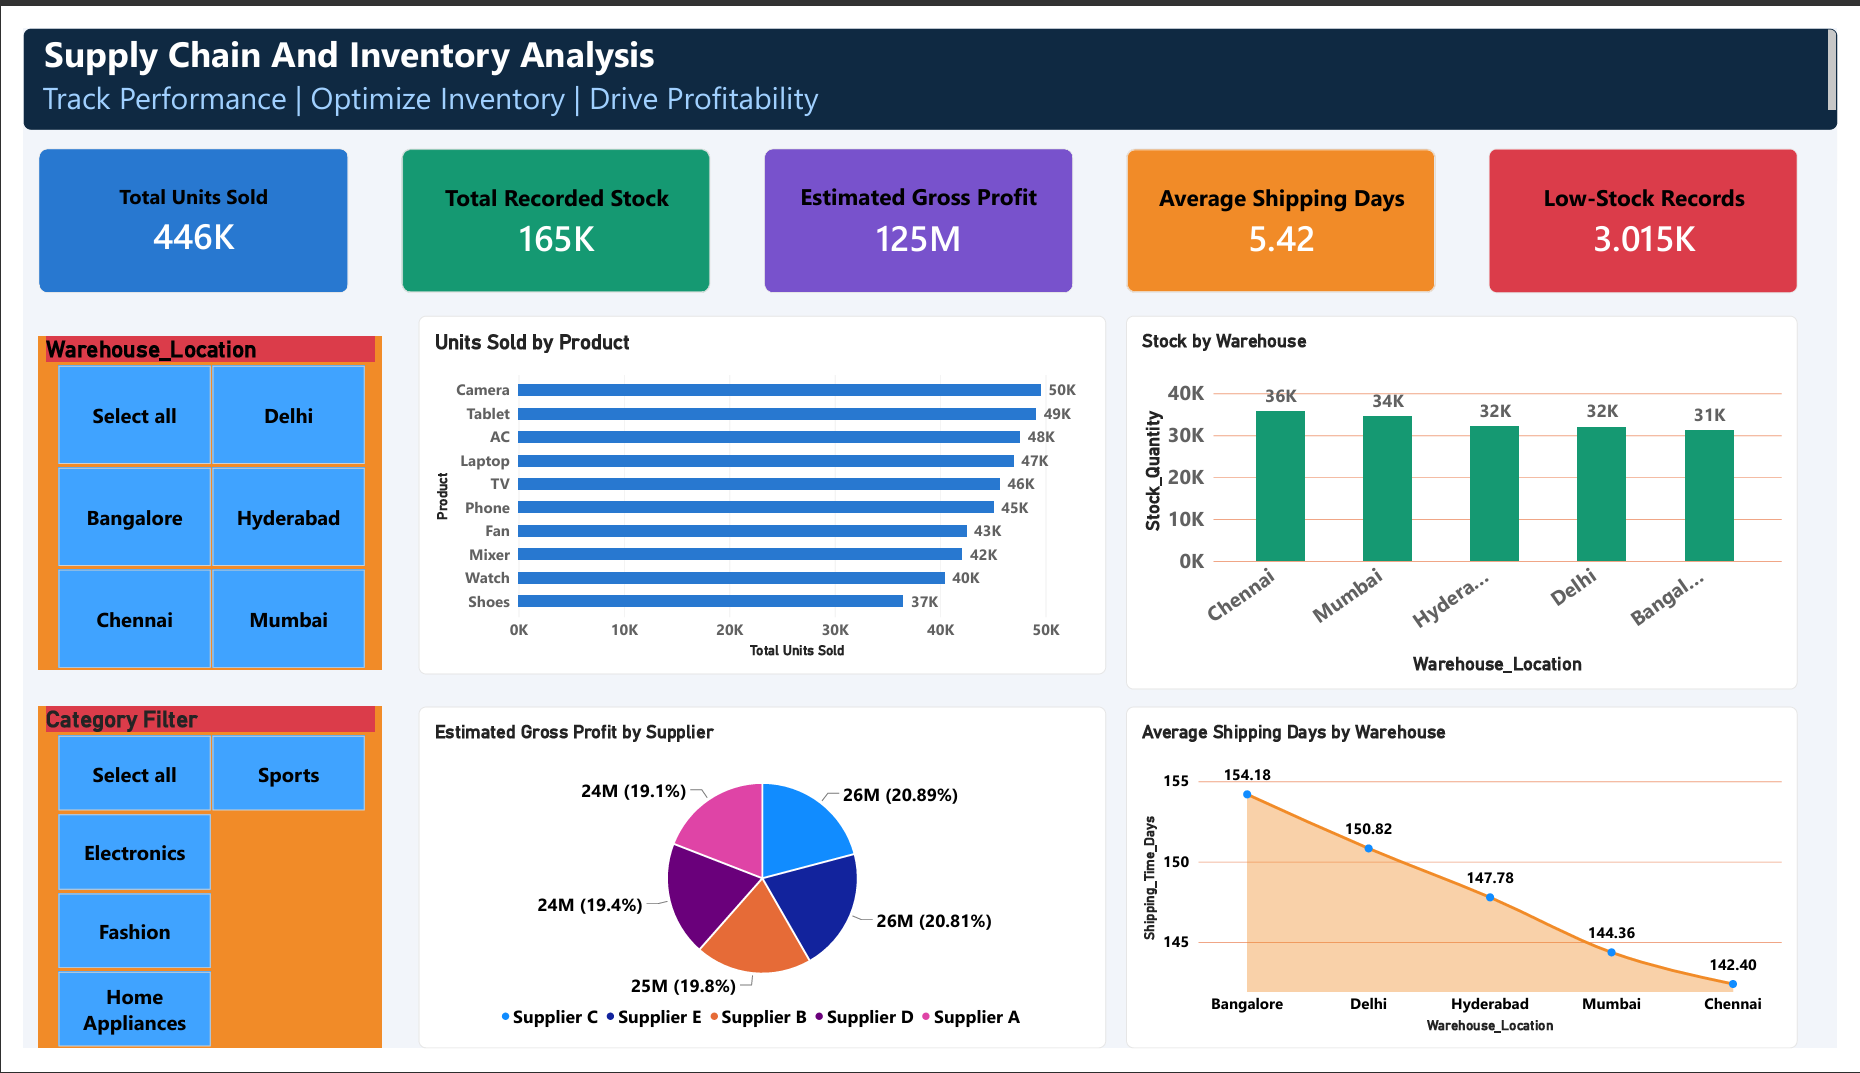

The page's visual inventory and layout, read from the dashboard file:
{"tool":"powerbi","page":{"name":"Supply Chain Dashboard","canvas":[1920,1080],"ordinal":0},"visuals":[{"type":"textbox","box":[-0.2,0,1920.4,107],"z":0},{"type":"cardVisual","title":"Total Units Sold","fields":{"Data":["Sum(Supply_Chain_PowerBI.Units_Sold)"]},"box":[16.3,126.7,327.5,153.8],"z":1000},{"type":"cardVisual","title":"Total Units Sold","fields":{"Data":["Count(Supply_Chain_PowerBI.Product_ID)"]},"box":[1550.9,126.7,327.5,153.8],"z":2000},{"type":"cardVisual","title":"Total Units Sold","fields":{"Data":["Avg(Supply_Chain_PowerBI.Shipping_Time_Days)"]},"box":[1167.2,126.7,327.5,153.8],"z":3000},{"type":"cardVisual","title":"Total Units Sold","fields":{"Data":["Sum(Supply_Chain_PowerBI.Total_Gross_Profit)"]},"box":[783.6,126.7,327.5,153.8],"z":4000},{"type":"cardVisual","title":"Total Units Sold","fields":{"Data":["Sum(Supply_Chain_PowerBI.Stock_Quantity)"]},"box":[399.9,126.7,327.5,153.8],"z":5000},{"type":"clusteredBarChart","title":"Units Sold by Product","fields":{"Category":["Supply_Chain_PowerBI.Product_Name"],"Y":["Sum(Supply_Chain_PowerBI.Units_Sold)"]},"box":[418,304,727.5,380],"z":6000},{"type":"clusteredColumnChart","title":"Stock by Warehouse","fields":{"Category":["Supply_Chain_PowerBI.Warehouse_Location"],"Y":["Sum(Supply_Chain_PowerBI.Stock_Quantity)"]},"box":[1167.2,304,711.2,396.3],"z":7000},{"type":"pieChart","title":"Estimated Gross Profit by Supplier","fields":{"Category":["Supply_Chain_PowerBI.Supplier_Name"],"Y":["Sum(Supply_Chain_PowerBI.Total_Gross_Profit)"]},"box":[418,718.4,727.5,361.9],"z":8000},{"type":"areaChart","title":"Average Shipping Days by Warehouse","fields":{"Category":["Supply_Chain_PowerBI.Warehouse_Location"],"Y":["Avg(Supply_Chain_PowerBI.Units_Sold)"]},"box":[1167.2,718.4,711.2,361.9],"z":9000},{"type":"slicer","fields":{"Values":["Supply_Chain_PowerBI.Warehouse_Location"]},"box":[16.3,325.7,363.7,352.9],"z":9001},{"type":"slicer","fields":{"Values":["Supply_Chain_PowerBI.Category"]},"box":[16.3,718.4,363.7,361.9],"z":9002}]}

Visuals, with their boxes in screenshot pixels (x1, y1, x2, y2), scaled from the page's 1920x1080 canvas onto the 1860x1073 screenshot:
textbox: bbox=[0, 0, 1859, 106]
"Total Units Sold" cardVisual: bbox=[16, 126, 333, 279]
"Total Units Sold" cardVisual: bbox=[1502, 126, 1820, 279]
"Total Units Sold" cardVisual: bbox=[1131, 126, 1448, 279]
"Total Units Sold" cardVisual: bbox=[759, 126, 1076, 279]
"Total Units Sold" cardVisual: bbox=[387, 126, 705, 279]
"Units Sold by Product" clusteredBarChart: bbox=[405, 302, 1110, 680]
"Stock by Warehouse" clusteredColumnChart: bbox=[1131, 302, 1820, 696]
"Estimated Gross Profit by Supplier" pieChart: bbox=[405, 714, 1110, 1072]
"Average Shipping Days by Warehouse" areaChart: bbox=[1131, 714, 1820, 1072]
slicer - Supply_Chain_PowerBI.Warehouse_Location: bbox=[16, 324, 368, 674]
slicer - Supply_Chain_PowerBI.Category: bbox=[16, 714, 368, 1072]
